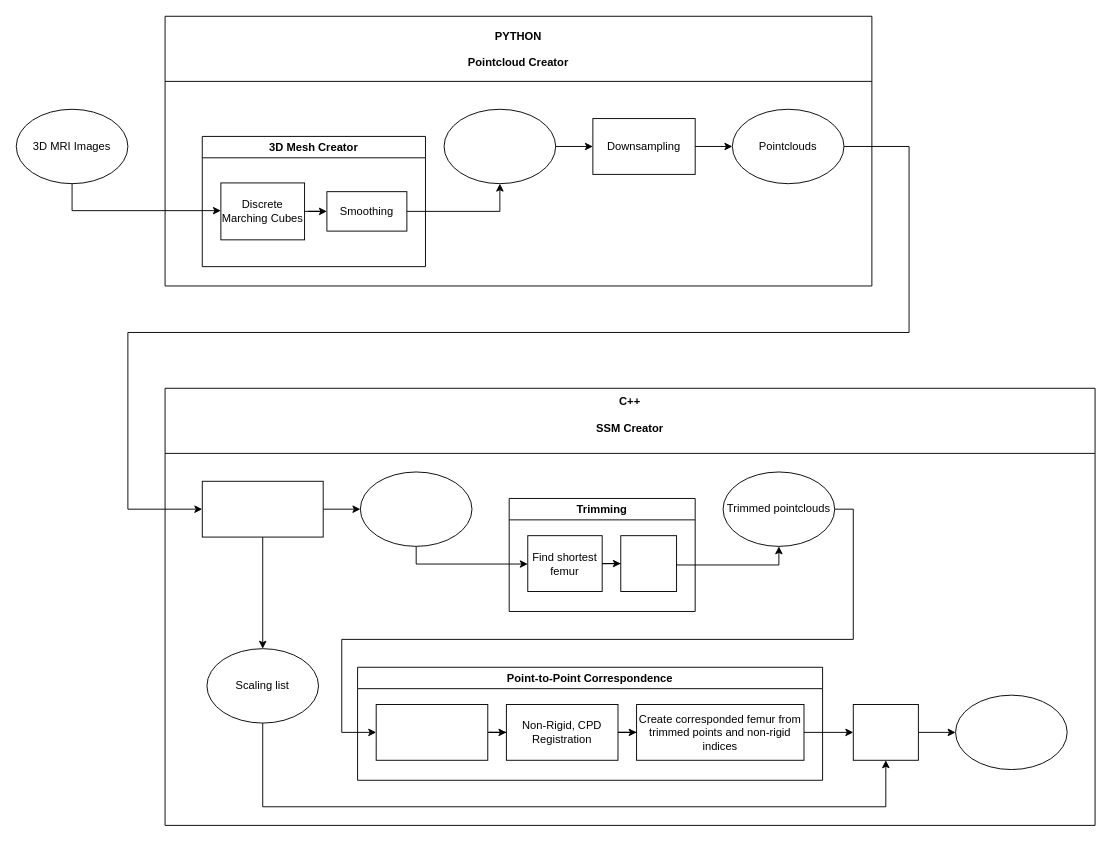
This 1111x842 diagram has some shape labels left out. Here are the shapes that lost their labels. From the top down, the centre of each, then its label:
the point at 499,146: 3D Meshes
the point at 262,508: Rigid, CPD Registration + Scaling
the point at 415,508: Registered, scaled pointclouds
the point at 648,563: Trim femurs
the point at 431,732: Find pointcloud with least #points
the point at 885,732: Unscale
the point at 1011,732: Trimmed, point-corresponded pointclouds
